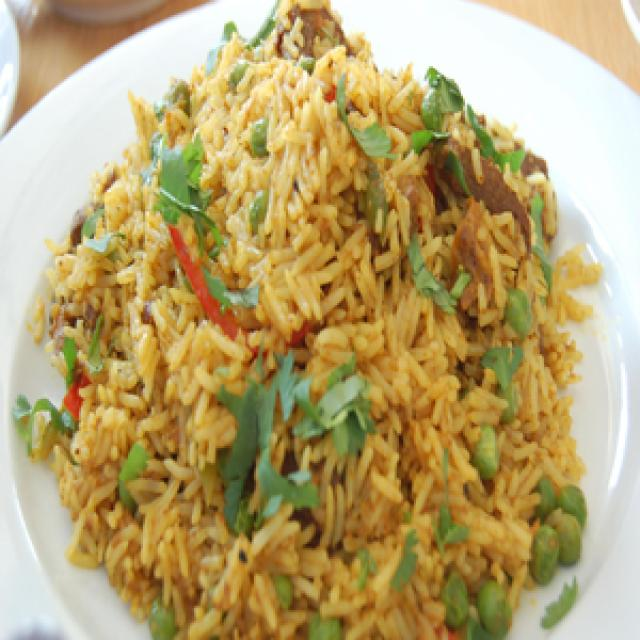chicken biriyani: (22, 0, 615, 640)
